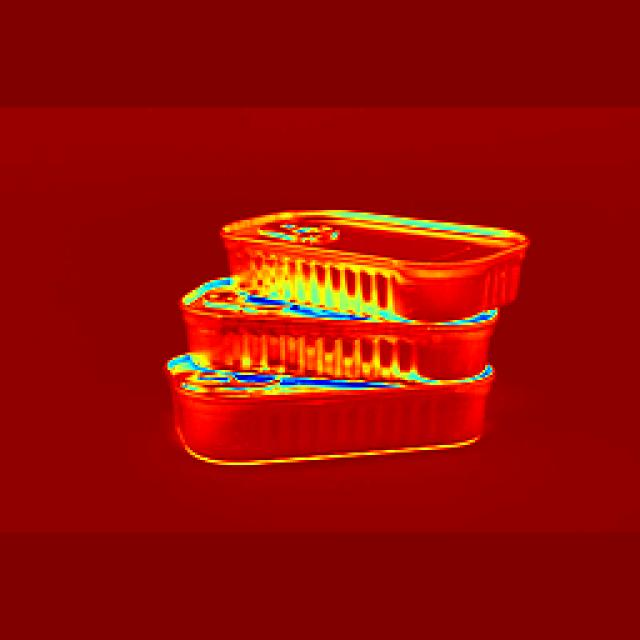Aluminium Food Cans: (178, 200, 520, 318), (173, 266, 494, 372), (173, 360, 484, 463)
